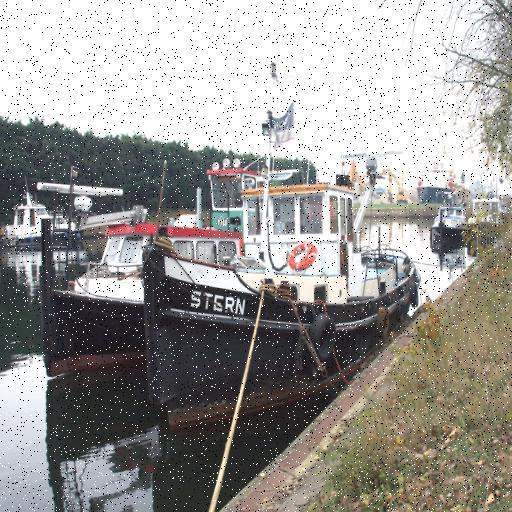tugboat: (140, 35, 423, 441)
